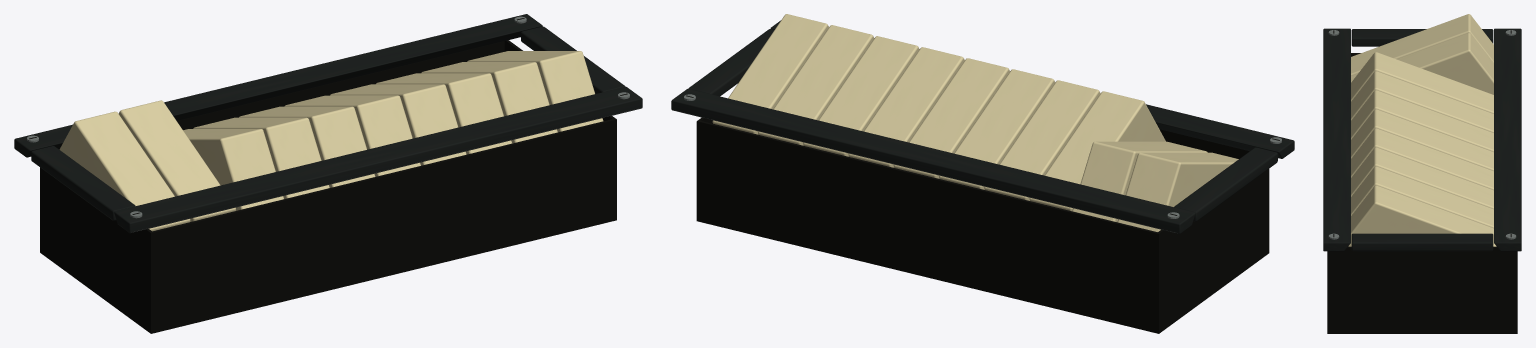
Rendered from piano_switches_10gang_optimized.glb.
3 views of the same model, side by side, from view 1: azimuth 30°, elevation 25°; view 2: azimuth 150°, elevation 25°; view 3: azimuth 270°, elevation 25° (orthographic). The views are drawn at different scales.
Parts seen in each view (by area): view 1: Cavity_Long_-1, Frame_Long_-1, Cavity_End_-1, Frame_Long_1, Rocker_Key_01, Rocker_Key_02, Rocker_Key_03, Cavity_Long_1, Rocker_Key_06, Rocker_Key_09, Rocker_Key_04, Rocker_Key_07 (+6 smaller); view 2: Cavity_Long_1, Frame_Long_1, Cavity_End_-1, Rocker_Key_03, Rocker_Key_05, Rocker_Key_04, Rocker_Key_07, Rocker_Key_08, Rocker_Key_06, Rocker_Key_09, Rocker_Key_10, Rocker_Key_01 (+6 smaller); view 3: Cavity_End_1, Frame_Long_1, Frame_Long_-1, Rocker_Key_10, Rocker_Key_02, Rocker_Key_07, Rocker_Key_09, Rocker_Key_04, Rocker_Key_08, Rocker_Key_05, Rocker_Key_06, Rocker_Key_03 (+4 smaller).
Boxes of the visible parts, box(x1,y1,x2,y2) form: Cavity_Long_-1: box(150, 119, 616, 331); Frame_Long_-1: box(114, 86, 642, 233); Cavity_End_-1: box(40, 167, 153, 331); Frame_Long_1: box(14, 14, 542, 157); Rocker_Key_01: box(59, 111, 190, 231); Rocker_Key_02: box(118, 100, 235, 221); Rocker_Key_03: box(183, 129, 283, 210); Cavity_Long_1: box(177, 41, 504, 129); Rocker_Key_06: box(284, 95, 420, 176); Rocker_Key_09: box(421, 62, 557, 143); Rocker_Key_04: box(193, 117, 329, 198); Rocker_Key_07: box(330, 84, 466, 165); Cavity_Long_1: box(696, 120, 1158, 331); Frame_Long_1: box(671, 88, 1195, 233); Cavity_End_-1: box(1156, 169, 1269, 331); Rocker_Key_03: box(1029, 91, 1165, 211); Rocker_Key_05: box(939, 69, 1055, 189); Rocker_Key_04: box(984, 80, 1100, 200); Rocker_Key_07: box(848, 47, 964, 167); Rocker_Key_08: box(803, 36, 919, 156); Rocker_Key_06: box(893, 58, 1009, 178); Rocker_Key_09: box(758, 25, 874, 145); Rocker_Key_10: box(712, 14, 828, 134); Rocker_Key_01: box(1117, 152, 1238, 231); Cavity_End_1: box(1327, 246, 1517, 332); Frame_Long_1: box(1494, 28, 1521, 251); Frame_Long_-1: box(1323, 28, 1350, 251); Rocker_Key_10: box(1348, 185, 1496, 246); Rocker_Key_02: box(1351, 33, 1493, 94); Rocker_Key_07: box(1351, 128, 1493, 190); Rocker_Key_09: box(1351, 166, 1493, 228); Rocker_Key_04: box(1351, 71, 1493, 132); Rocker_Key_08: box(1351, 147, 1493, 209); Rocker_Key_05: box(1351, 90, 1493, 151); Rocker_Key_06: box(1351, 109, 1493, 170); Rocker_Key_03: box(1351, 52, 1493, 113).
Bounding box in the file's own units: 0.0759 × 0.0212 × 0.0297.
4 materials, 3 textured.
